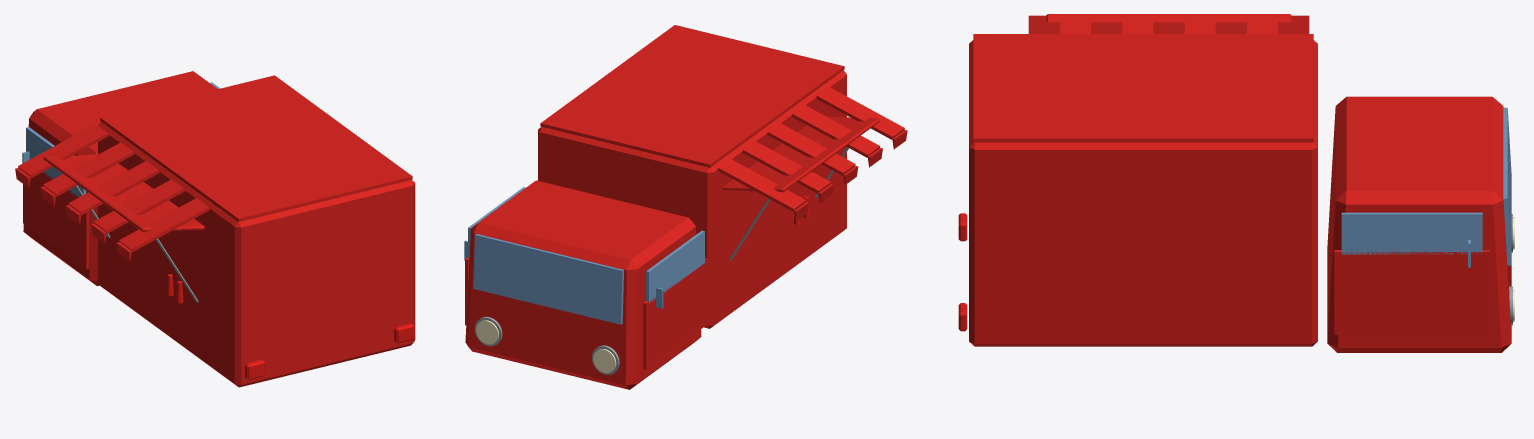
The model's file is veh_food_truck.fbx.
The picture shows the model from 3 angles, left to right: view 1: azimuth 30°, elevation 25°; view 2: azimuth 150°, elevation 25°; view 3: azimuth 270°, elevation 25°; orthographic projection. The views are drawn at different scales.
Visible parts, largest first — view 1: Body_LOD0, Awning, Door_FL, Hatch; view 2: Body_LOD0, Awning, Door_FL, Hatch, Door_FR; view 3: Body_LOD0, Door_FR, Hatch, Awning.
Boxes of the visible parts, box(x1,y1,x2,y2) form: Body_LOD0: box(22, 71, 415, 387); Awning: box(15, 124, 209, 262); Door_FL: box(23, 127, 89, 269); Hatch: box(43, 154, 204, 302); Body_LOD0: box(464, 25, 846, 389); Awning: box(717, 87, 907, 221); Door_FL: box(643, 230, 707, 369); Hatch: box(722, 116, 879, 260); Door_FR: box(465, 187, 525, 325); Body_LOD0: box(958, 34, 1514, 352); Door_FR: box(1334, 212, 1489, 334); Hatch: box(1046, 14, 1291, 33); Awning: box(1028, 15, 1309, 33).
Size of what is drawn, in the model's own units: 2.67 by 2.12 by 3.95.
1 material, 1 textured.
